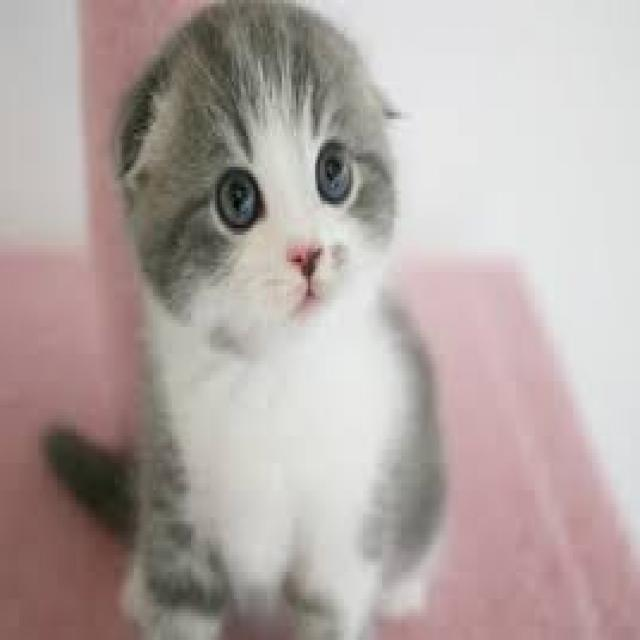cat-face: (94, 2, 493, 407)
